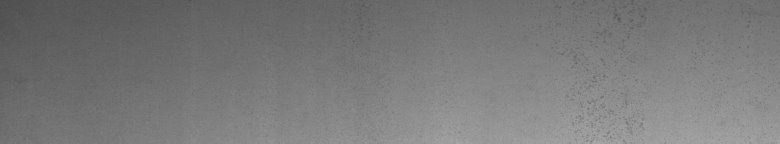ib: (572, 13, 632, 124)
